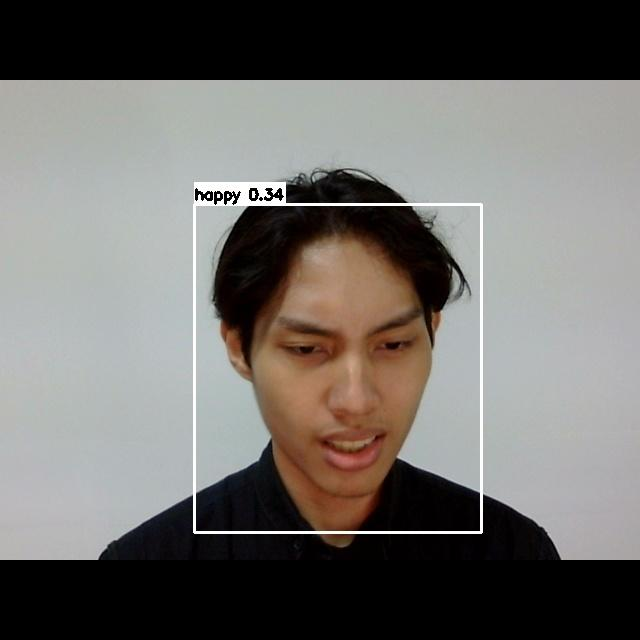Fear: (241, 281, 447, 489)
